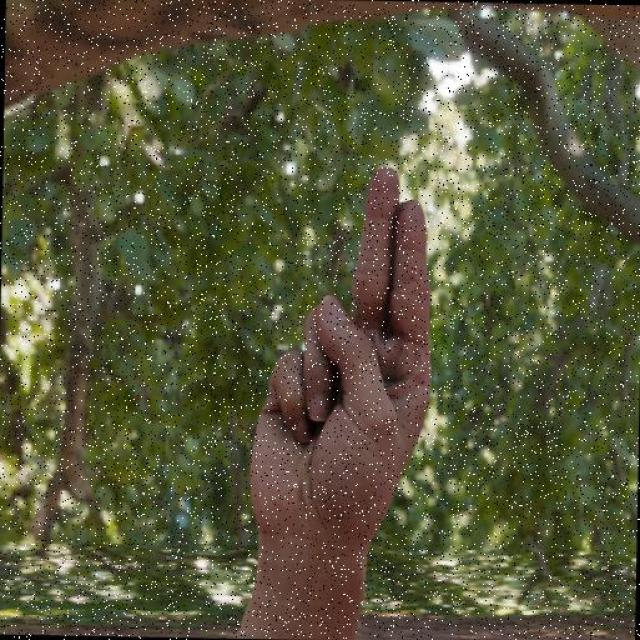U: (238, 158, 439, 548)
